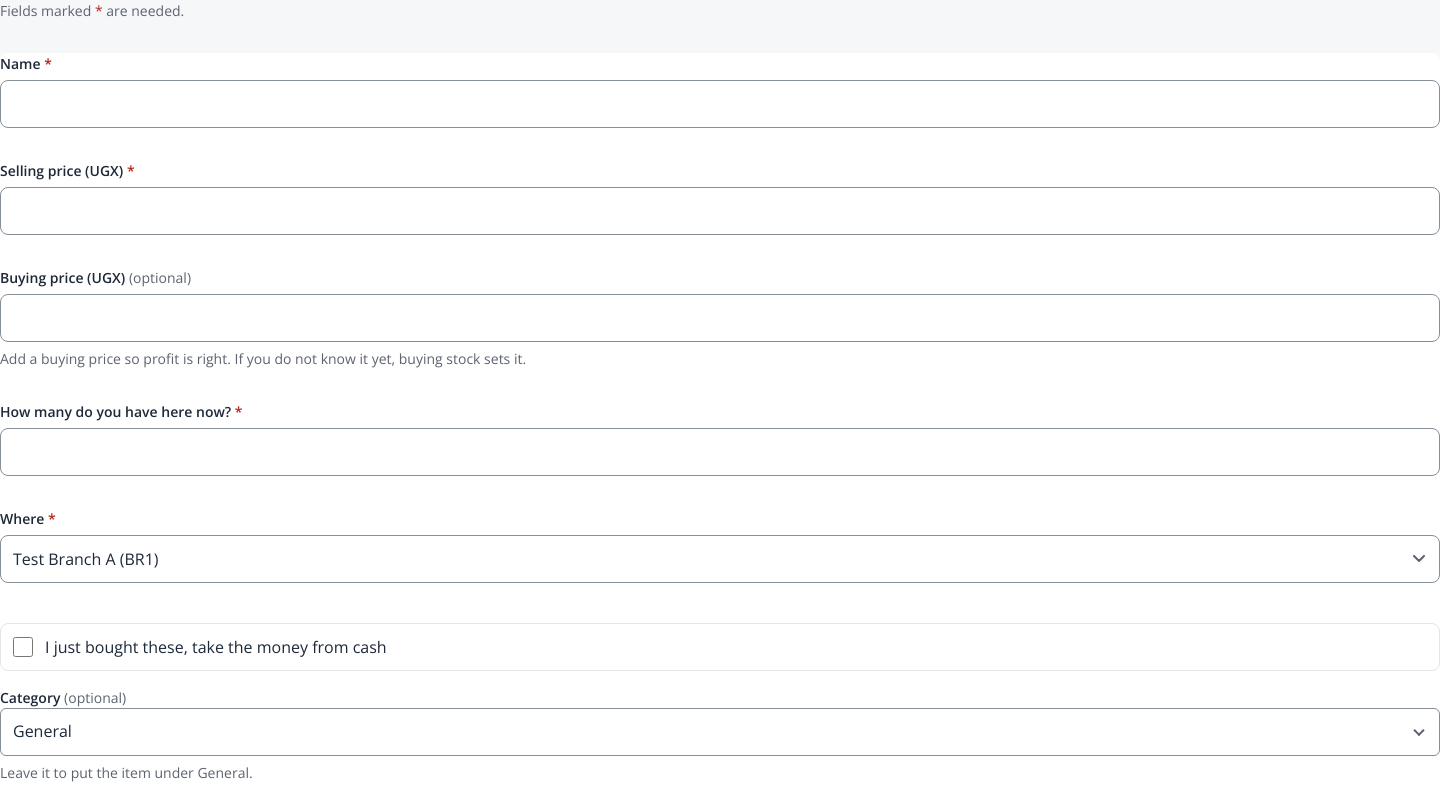
Test: quick add › leaves the category out, so the server files the item under General
Type "Test Soap" into the field labelled "Name *" at (720, 104), box [0,80,1439,128]
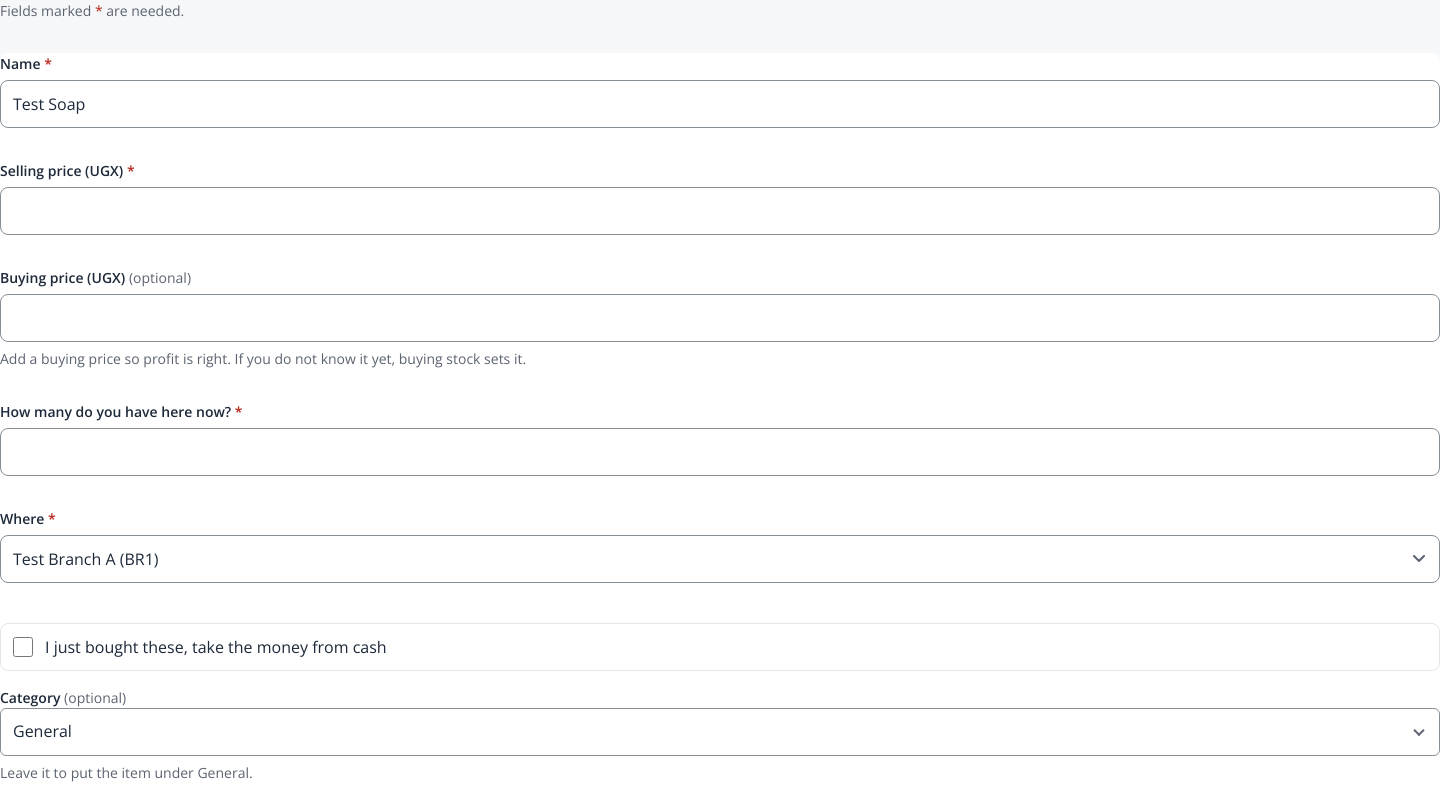
Type "2500" into the field labelled "Selling price (UGX) *" at (720, 211), box [0,187,1439,235]
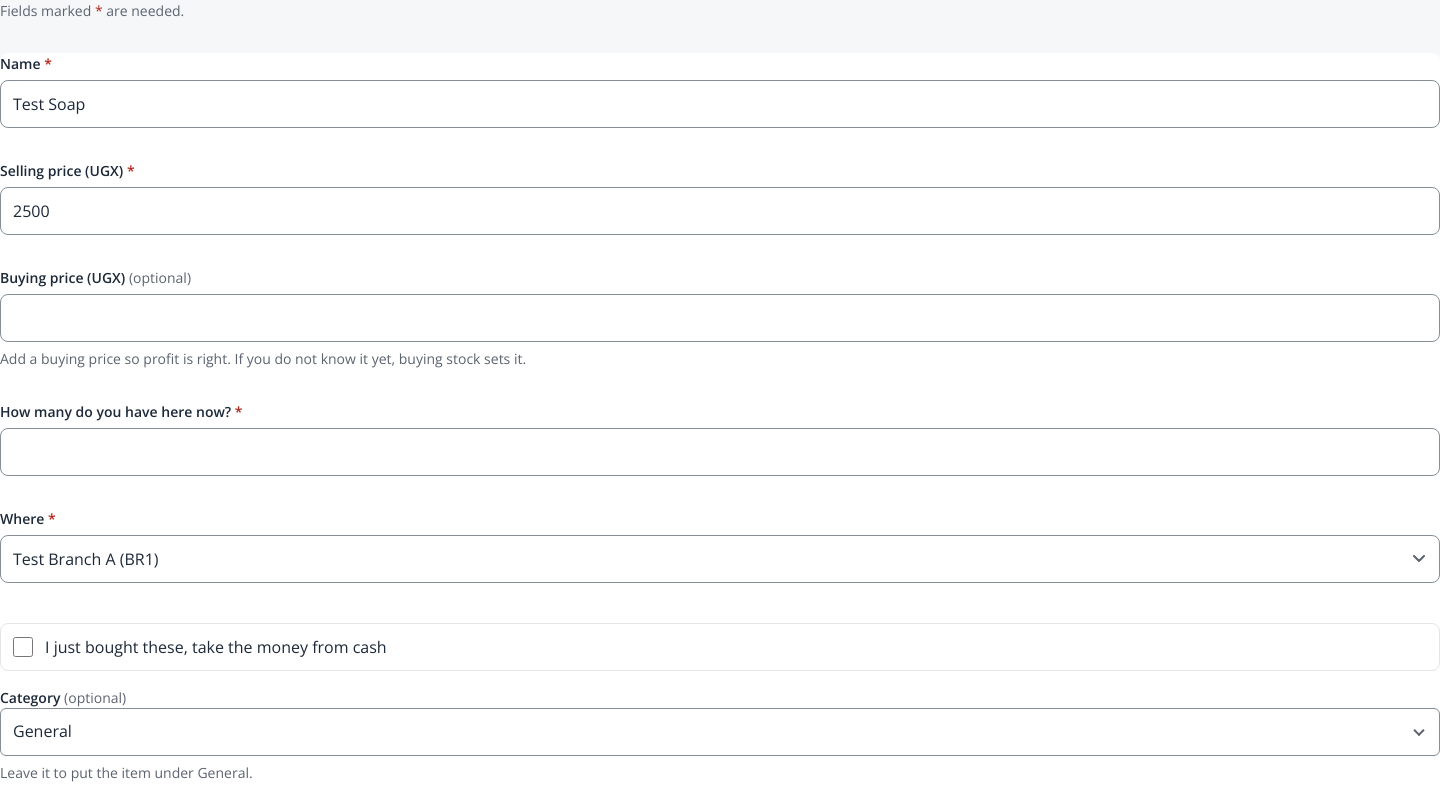
Type "1" into the field labelled "How many do you have here now? *" at (720, 452), box [0,428,1439,476]
(page scrolled)
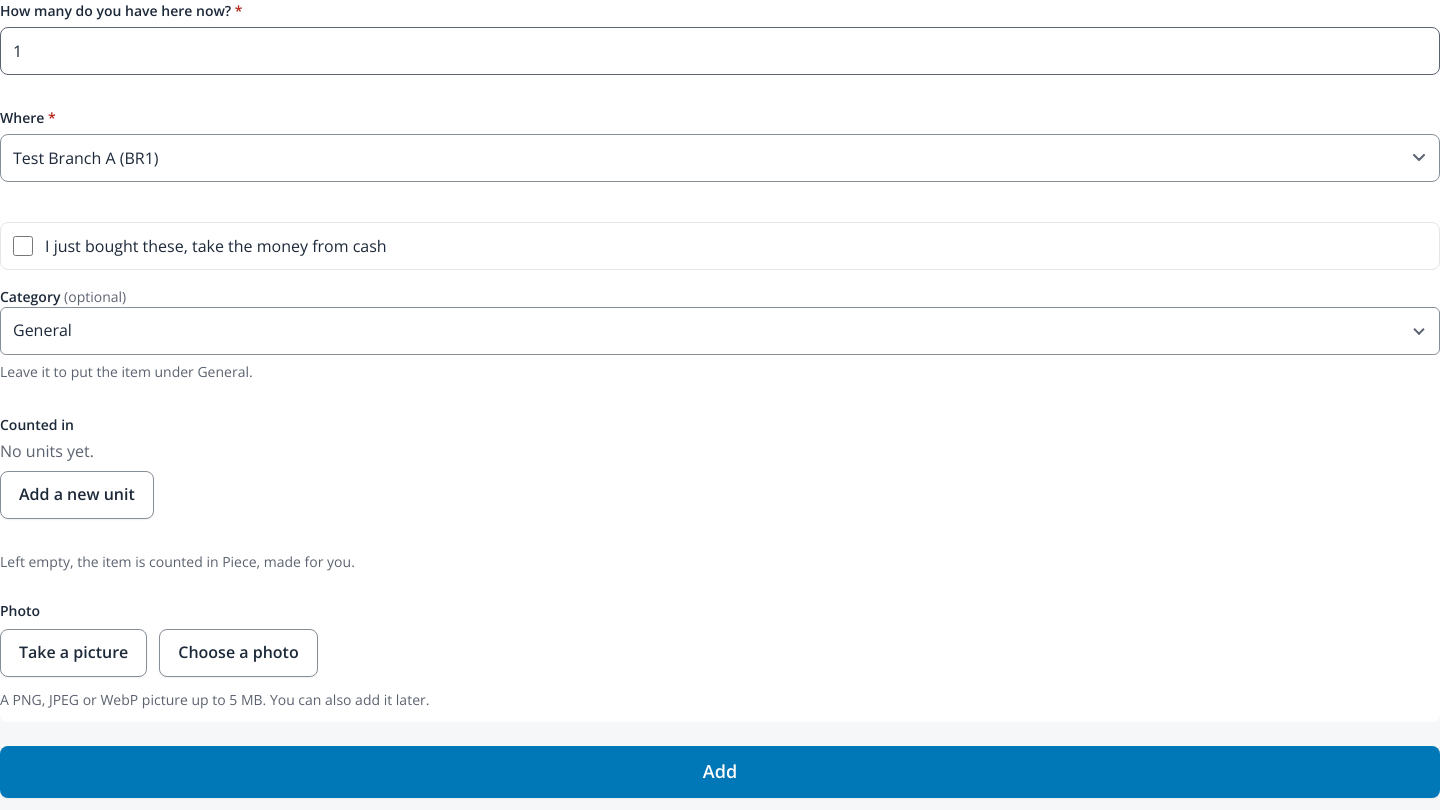
Click the button "Add" at (720, 772), box [0,746,1439,798]
(page scrolled)
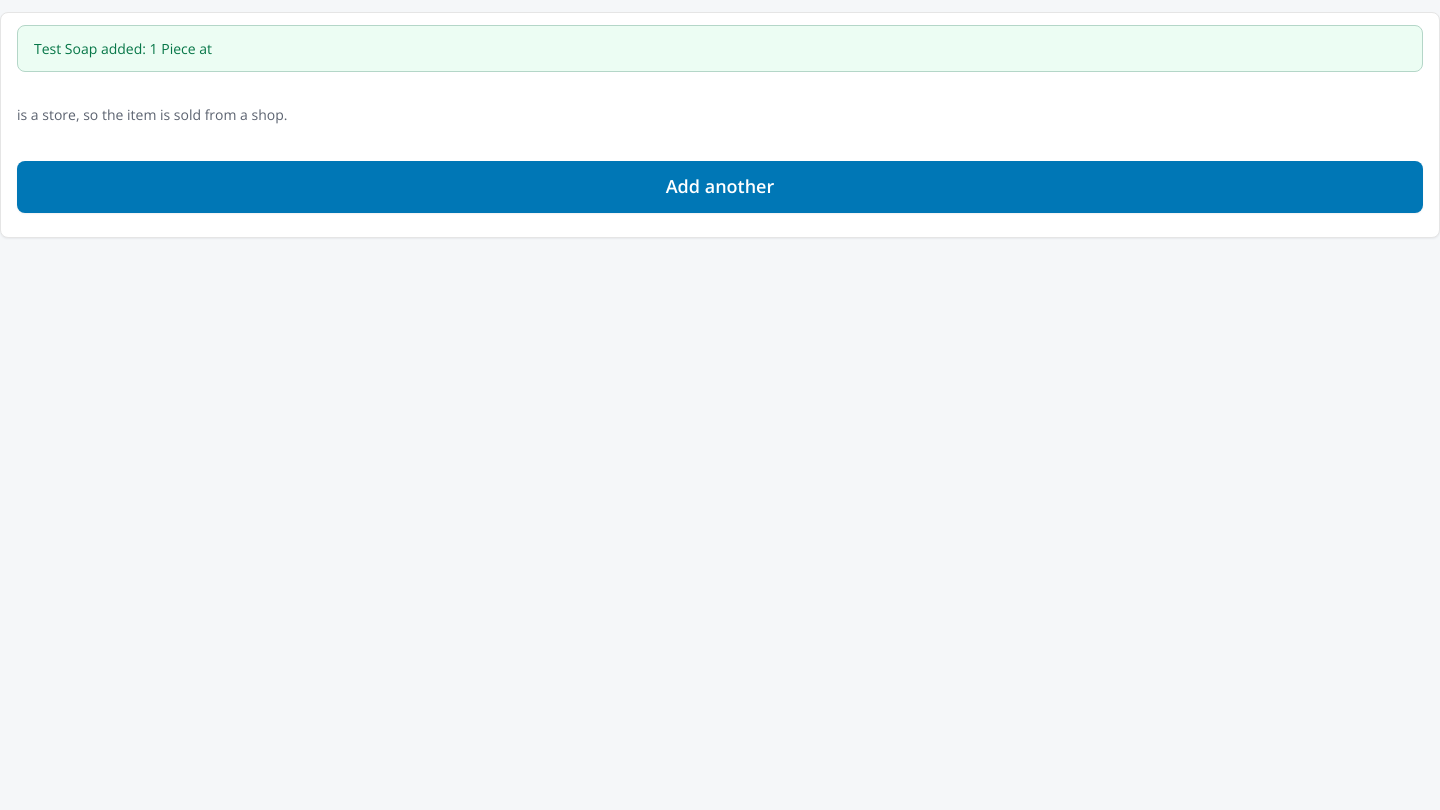
Expected: the message "Test Soap added: 1 Piece at" is shown, [17,25,1423,72]
